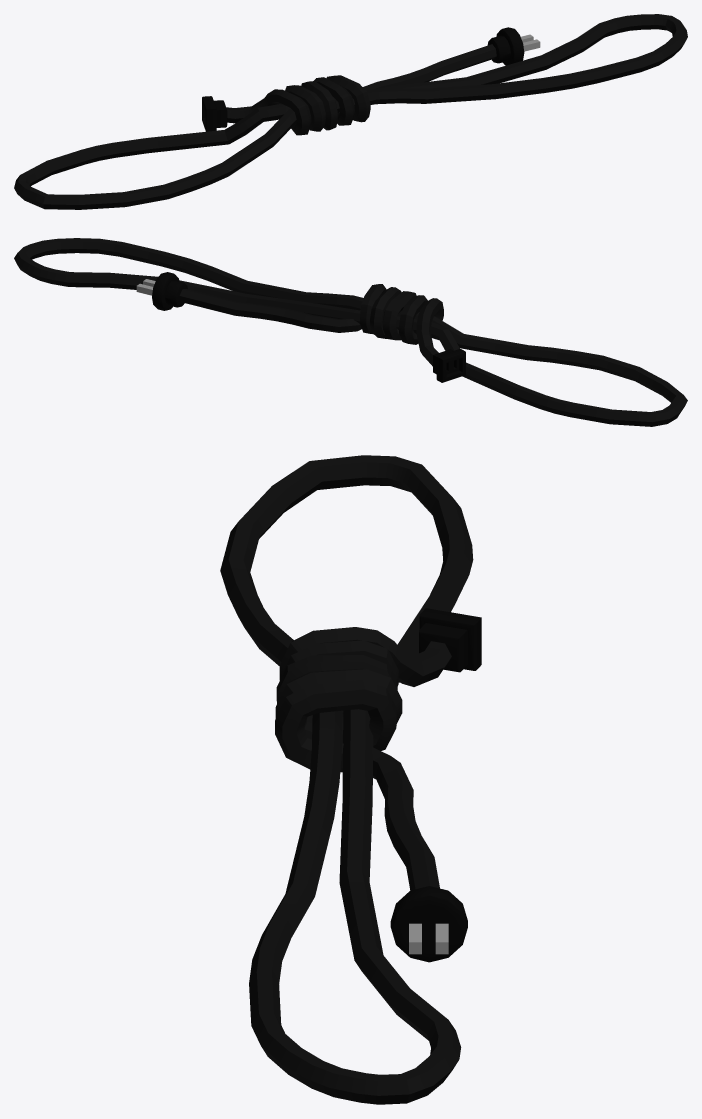
File: Cable_02.glb
The picture shows the model from 3 angles, top to bottom: view 1: azimuth 30°, elevation 25°; view 2: azimuth 150°, elevation 25°; view 3: azimuth 270°, elevation 25°; orthographic projection. The views are drawn at different scales.
Visible parts, largest first — view 1: Mesh_Cable_02; view 2: Mesh_Cable_02; view 3: Mesh_Cable_02.
Boxes of the visible parts, x1,y1,x2,y2 form: Mesh_Cable_02: [14, 14, 687, 209]; Mesh_Cable_02: [14, 238, 687, 426]; Mesh_Cable_02: [220, 455, 481, 1104].
Size of the model in its own units: 0.5826 by 0.0418 by 0.1006.
Materials: 1 (1 with a texture image).
